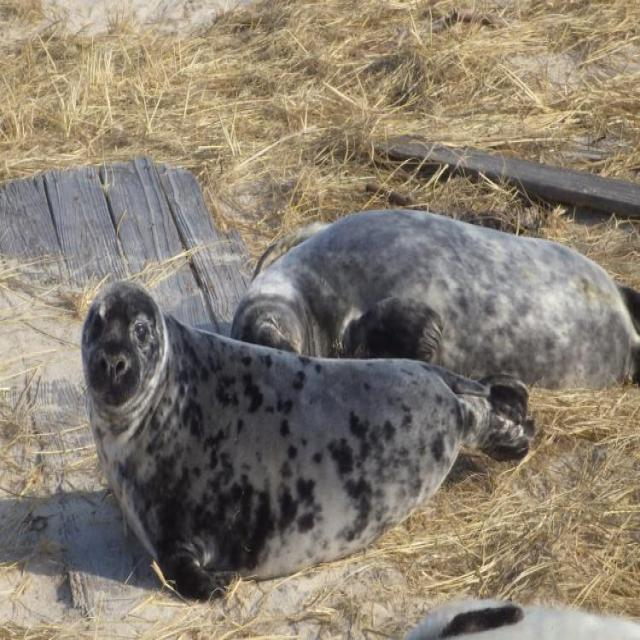WaterDog: (76, 273, 530, 609)
